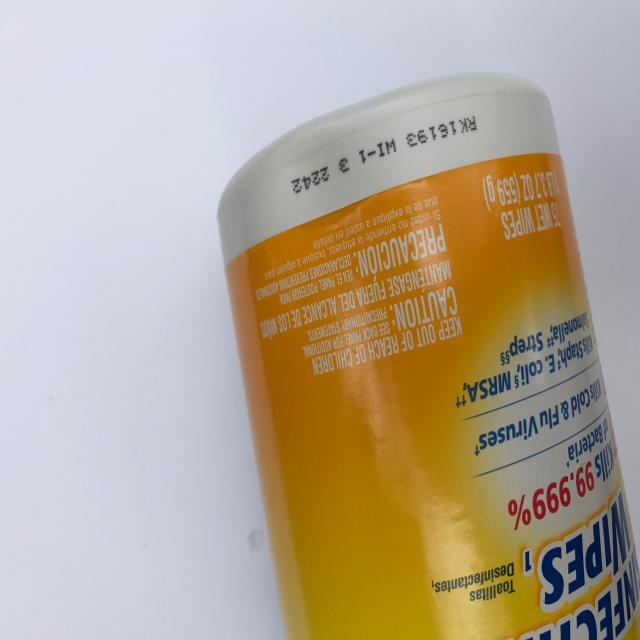plastic: (215, 69, 639, 640)
